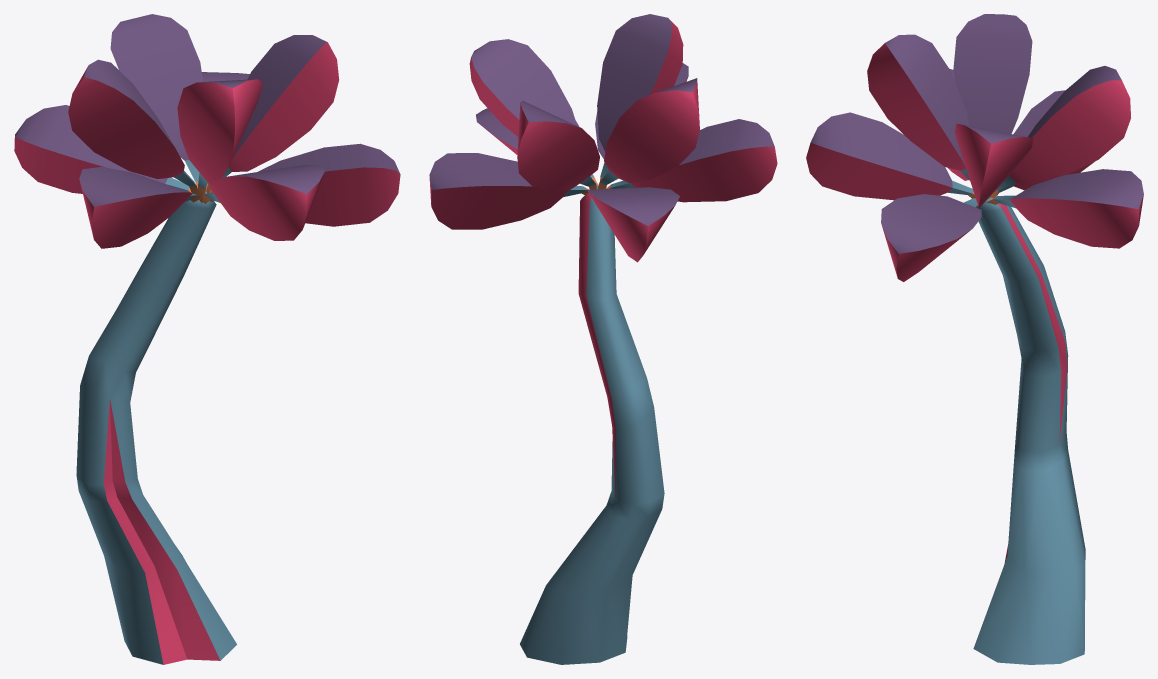
The model's file is Tree_4.fbx.
The picture shows the model from 3 angles, left to right: view 1: azimuth 30°, elevation 25°; view 2: azimuth 150°, elevation 25°; view 3: azimuth 270°, elevation 25°; orthographic projection. The views are drawn at different scales.
Parts seen in each view (by area): view 1: Tree_4; view 2: Tree_4; view 3: Tree_4.
Part boxes in pixels (left/top/right/bottom): Tree_4: left=14, top=14, right=400, bottom=664; Tree_4: left=429, top=14, right=777, bottom=664; Tree_4: left=806, top=14, right=1143, bottom=664.
Size of the model in its own units: 473 by 906 by 468.
